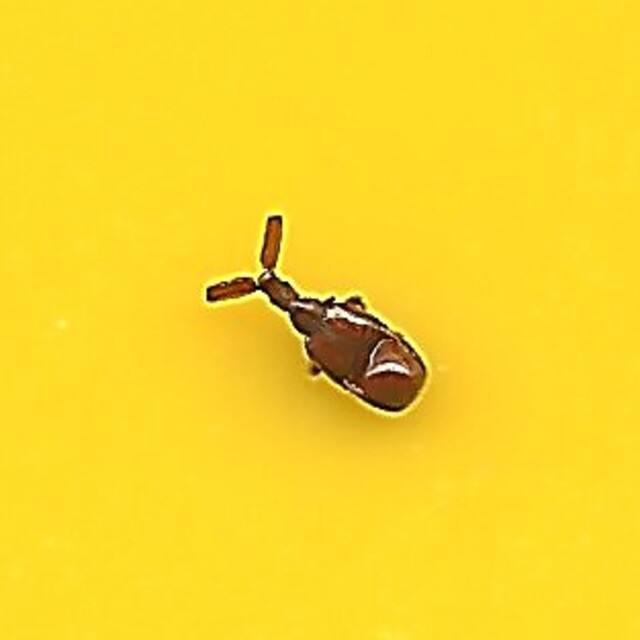Coleoptera: (204, 213, 436, 427)
